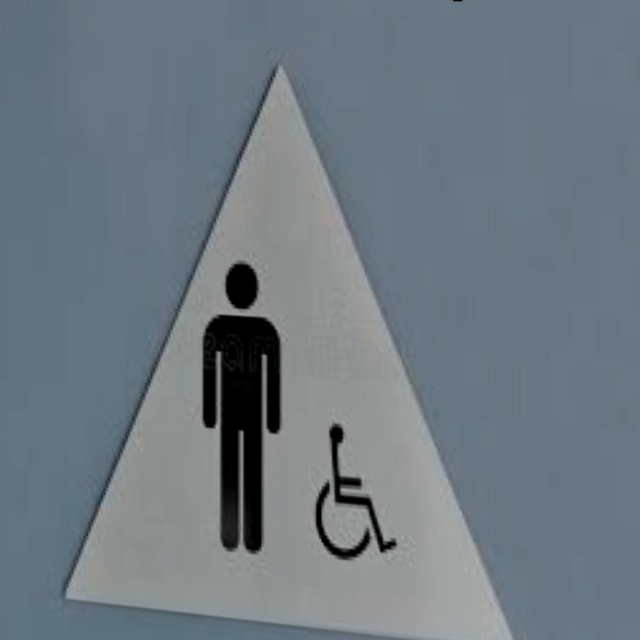ISA: (313, 418, 397, 568)
